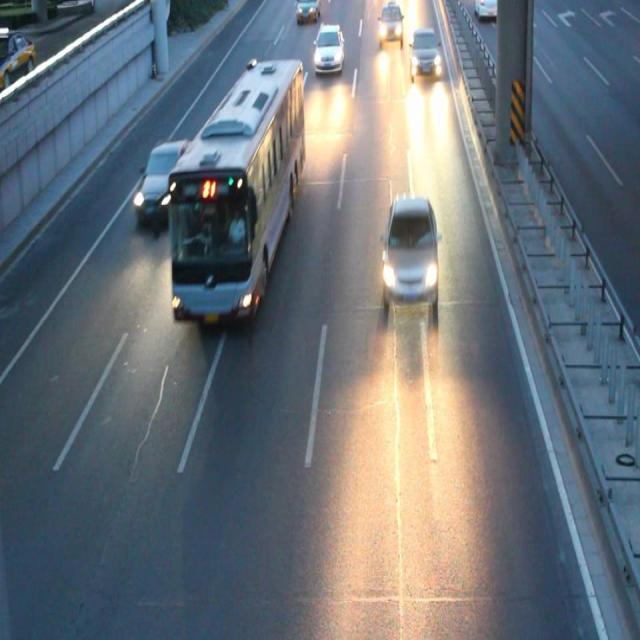car: (383, 194, 438, 305), (134, 141, 190, 226), (410, 28, 440, 76), (313, 25, 343, 71), (378, 1, 402, 42), (472, 1, 500, 18), (296, 1, 319, 20)
van: (169, 62, 303, 315)
